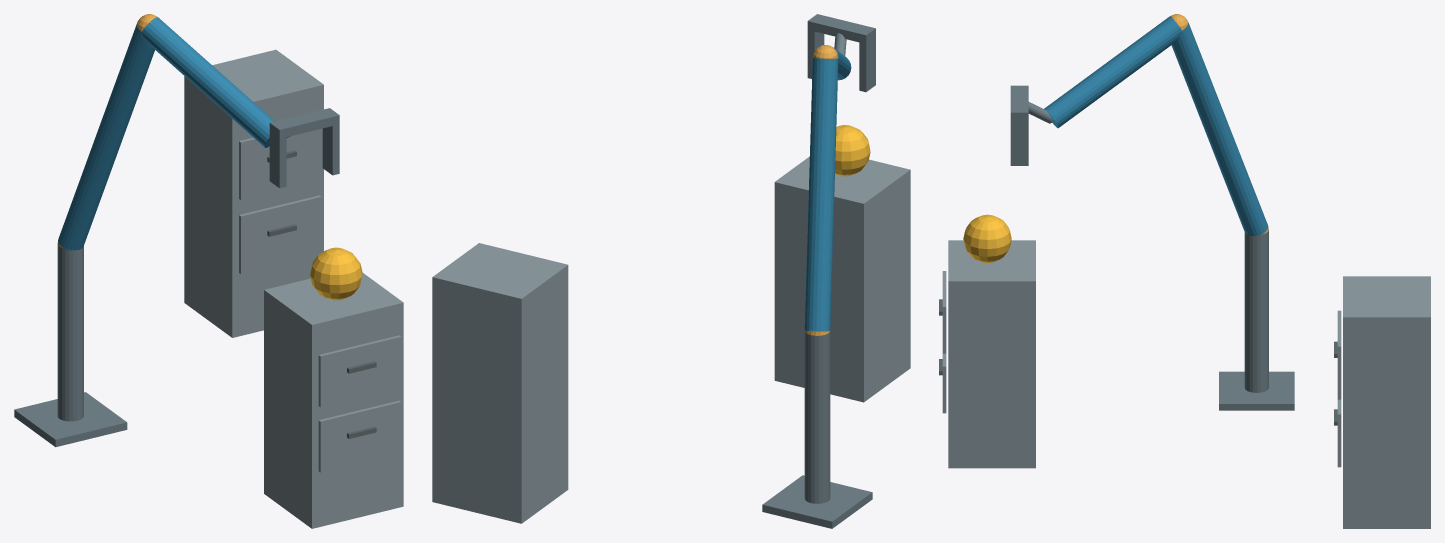
3 views of the same model, side by side, from view 1: azimuth 30°, elevation 25°; view 2: azimuth 150°, elevation 25°; view 3: azimuth 270°, elevation 25° (orthographic). The views are drawn at different scales.
Visible parts, largest first — view 1: cabinet_1 body, cabinet_2 body, moving link 1, cabinet_2 drawer front, fixed post, moving link 2, cabinet_1 drawer front.001, cabinet_1 drawer front, cabinet_2 drawer front.001, pedestal, ball ball_1, gripper bridge (+2 smaller); view 2: cabinet_2 body, cabinet_1 body, moving link 1, fixed post, pedestal, ball ball_1, gripper bridge, gripper finger -1; view 3: cabinet_2 body, cabinet_1 body, moving link 1, fixed post, moving link 2, pedestal, ball ball_1, gripper finger 1, gripper bridge.
Part boxes in pixels (x1=…): cabinet_1 body: x1=264, y1=273, x2=403, y2=528; cabinet_2 body: x1=184, y1=49, x2=323, y2=337; moving link 1: x1=58, y1=22, x2=154, y2=250; cabinet_2 drawer front: x1=239, y1=195, x2=321, y2=273; fixed post: x1=57, y1=244, x2=83, y2=421; moving link 2: x1=142, y1=17, x2=274, y2=147; cabinet_1 drawer front.001: x1=318, y1=335, x2=401, y2=407; cabinet_1 drawer front: x1=318, y1=400, x2=401, y2=472; cabinet_2 drawer front.001: x1=239, y1=128, x2=321, y2=200; pedestal: x1=14, y1=392, x2=127, y2=447; ball ball_1: x1=310, y1=247, x2=362, y2=300; gripper bridge: x1=269, y1=108, x2=339, y2=138; cabinet_2 body: x1=432, y1=243, x2=568, y2=523; cabinet_1 body: x1=774, y1=156, x2=910, y2=402; moving link 1: x1=804, y1=57, x2=838, y2=331; fixed post: x1=804, y1=331, x2=830, y2=503; pedestal: x1=762, y1=475, x2=872, y2=528; ball ball_1: x1=835, y1=125, x2=870, y2=176; gripper bridge: x1=807, y1=14, x2=875, y2=43; gripper finger -1: x1=859, y1=37, x2=875, y2=92; cabinet_2 body: x1=1343, y1=276, x2=1430, y2=528; cabinet_1 body: x1=948, y1=240, x2=1035, y2=468; moving link 1: x1=1171, y1=22, x2=1268, y2=236; fixed post: x1=1244, y1=230, x2=1268, y2=392; moving link 2: x1=1044, y1=16, x2=1181, y2=128; pedestal: x1=1219, y1=371, x2=1294, y2=410; ball ball_1: x1=963, y1=214, x2=1011, y2=262; gripper finger 1: x1=1010, y1=120, x2=1028, y2=165; gripper bridge: x1=1010, y1=85, x2=1028, y2=120.
Bounding box in the file's own units: 1.17 × 1.44 × 1.62.
